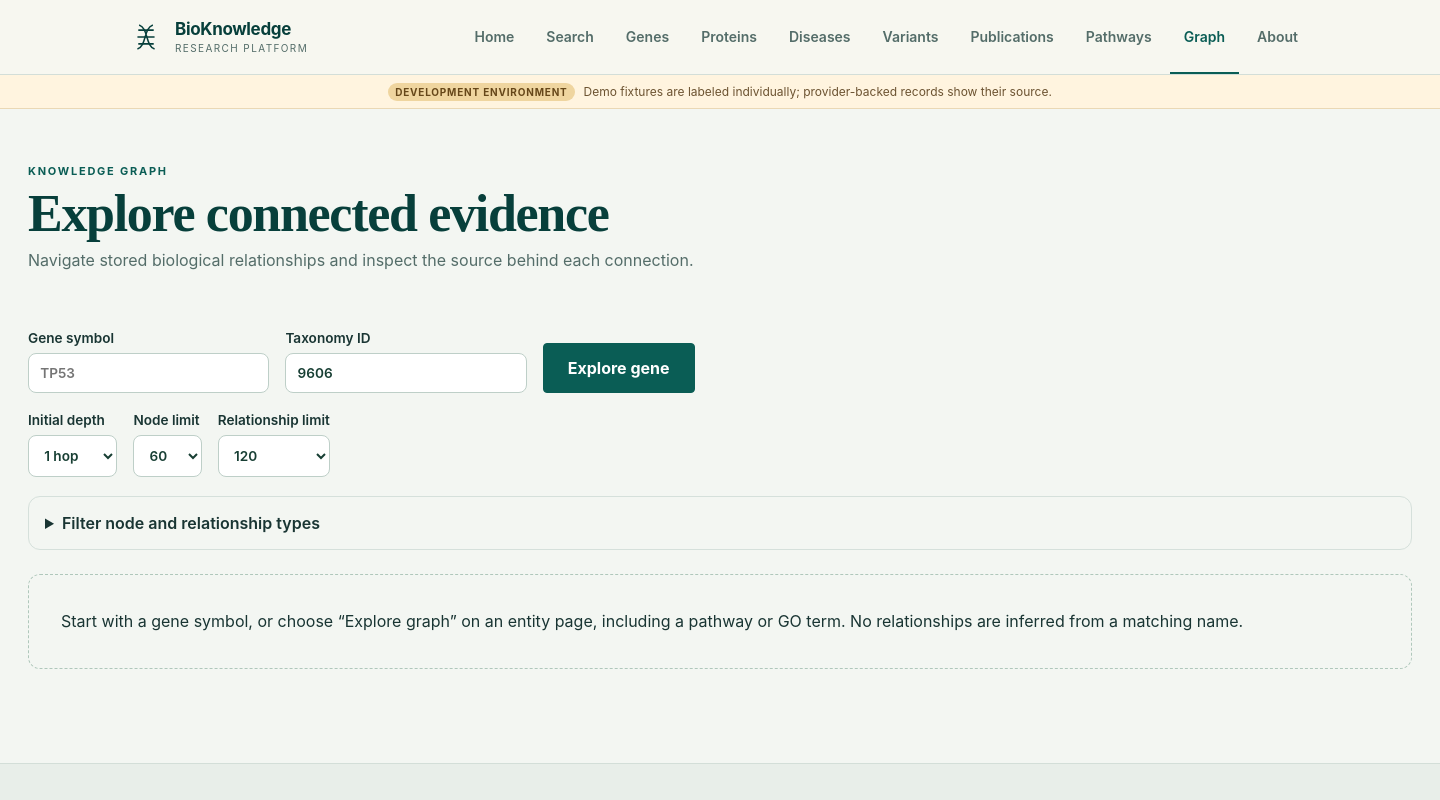
it: graph failures retry and gene symbol entry uses the explicit lookup route
Step 1. Type "DEMO" into the field labelled "Gene symbol" → (149, 373), box [28, 353, 269, 393]
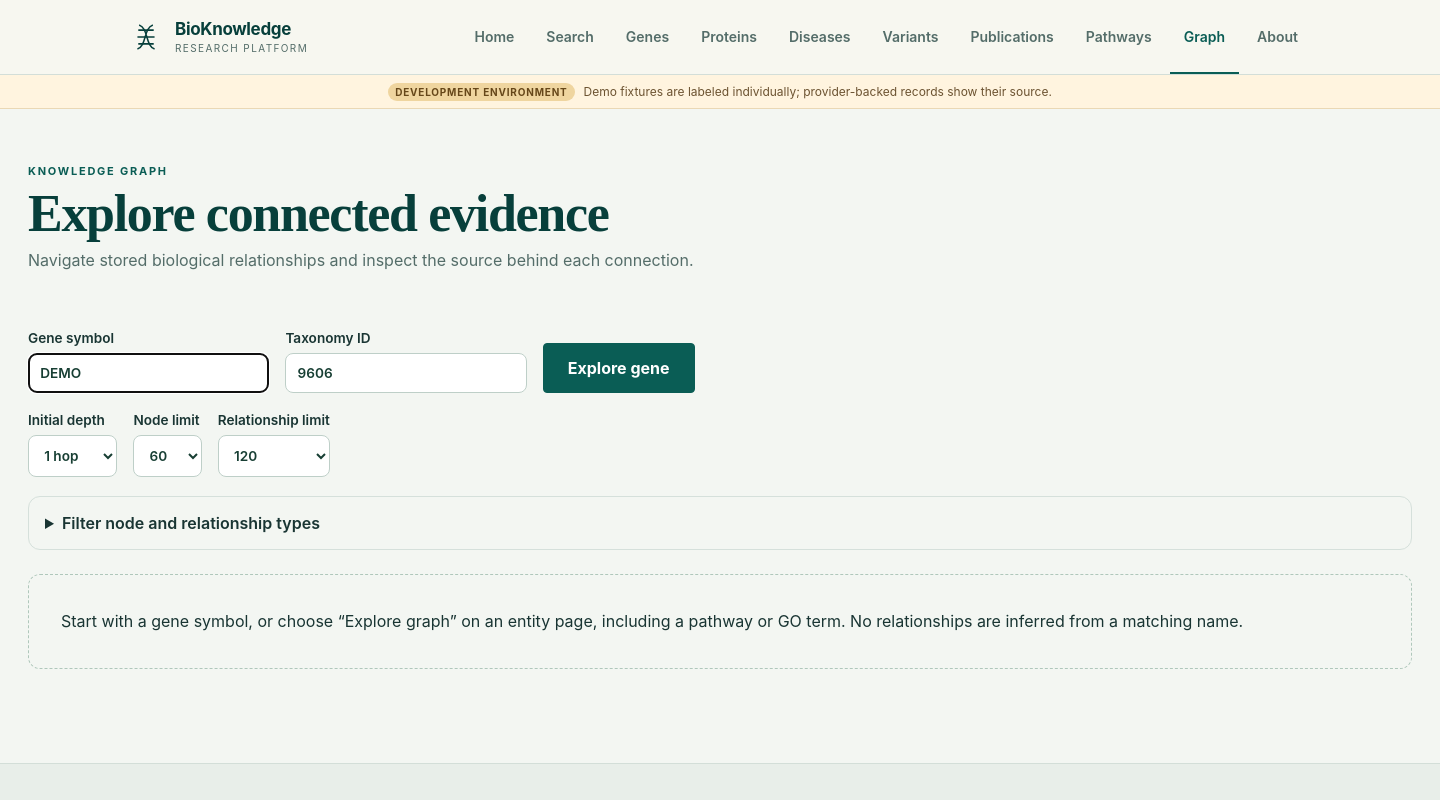
Step 2. Click the button "Explore gene" → (619, 368), box [543, 343, 695, 393]
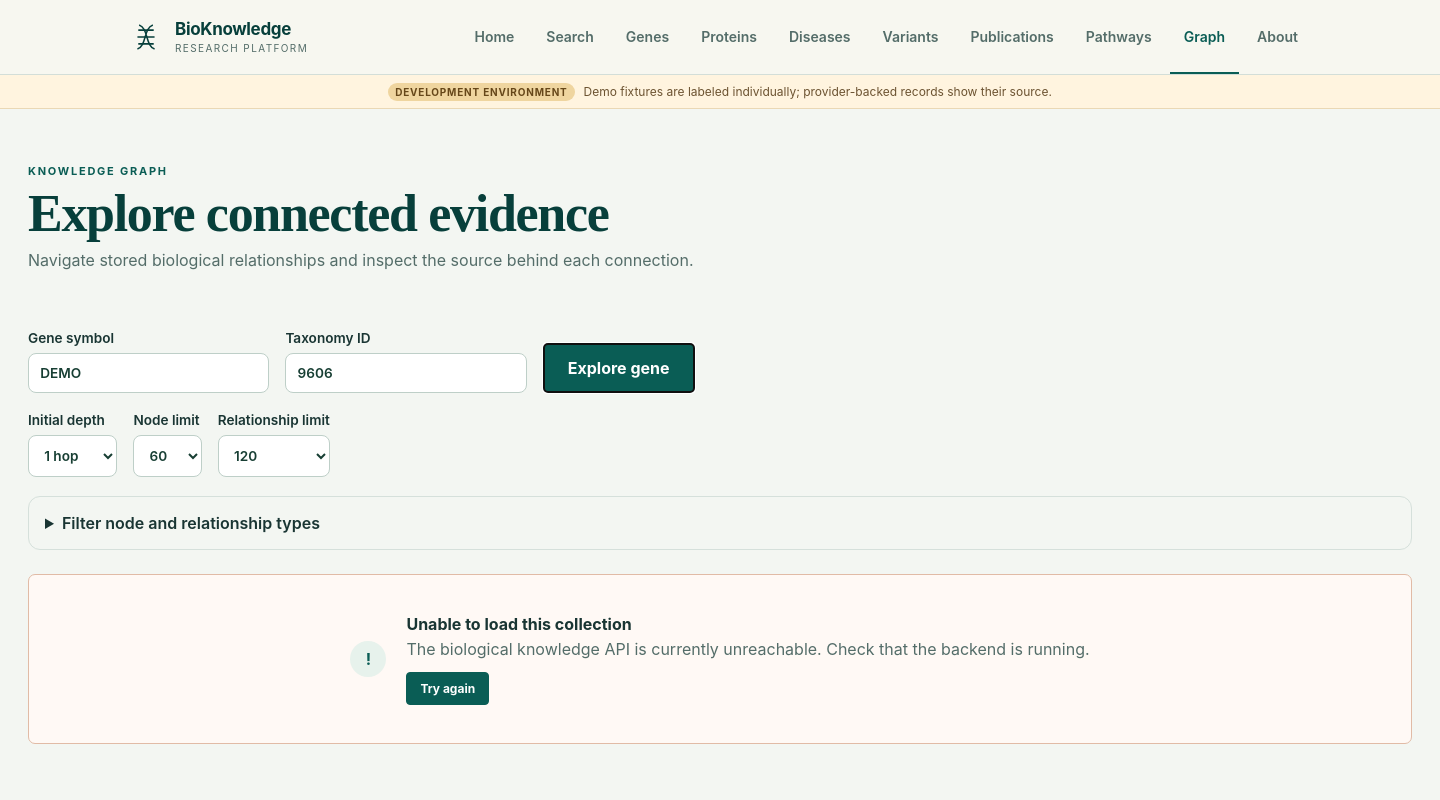
Expected: the text "Unable to load this collection" is shown, [406, 614, 632, 634]
Step 3. Click the button "Try again" → (448, 688), box [406, 672, 489, 705]
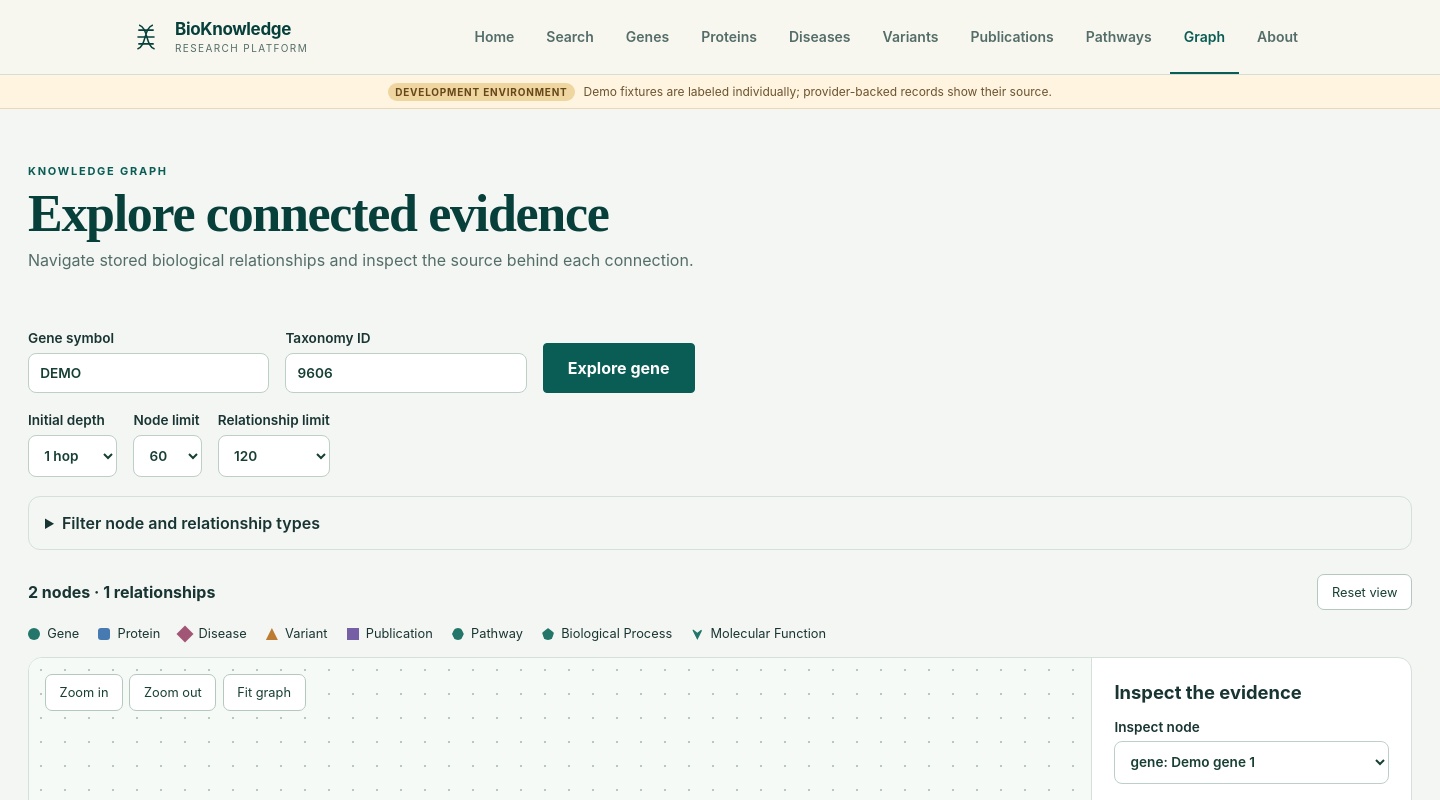
Expected: the text "2 nodes · 1 relationships" is shown, [28, 582, 215, 602]
